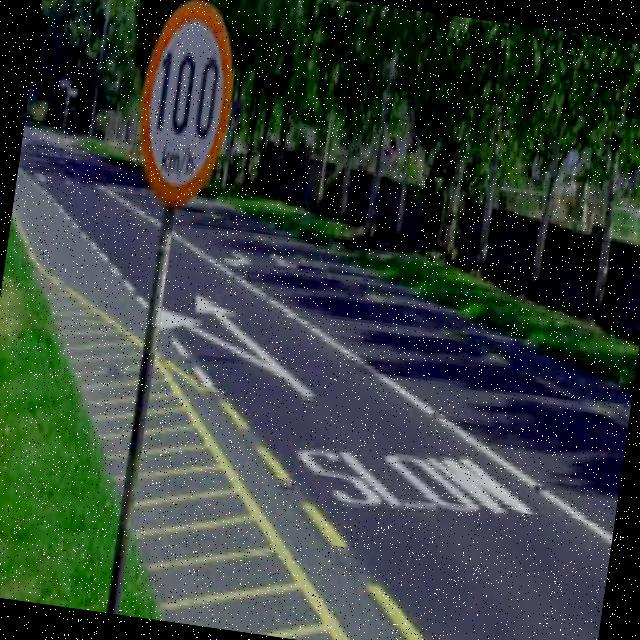Ograniczenie predkosci do 100: (128, 0, 243, 217)
